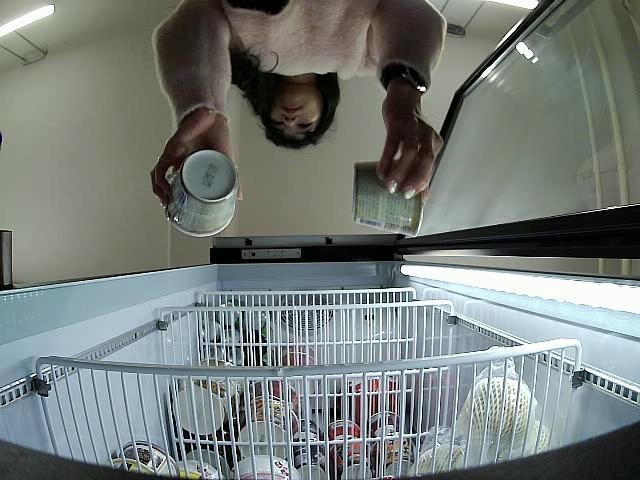04_chapagetti_S: (165, 151, 236, 236), (352, 162, 426, 240)
